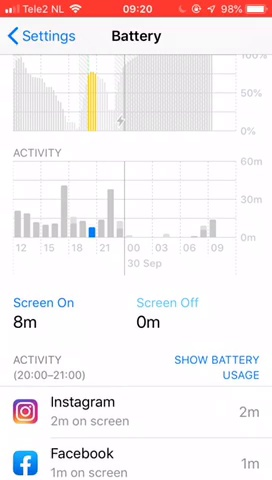activity: (8, 353, 93, 382)
app: (12, 391, 264, 428), (10, 442, 262, 479)
